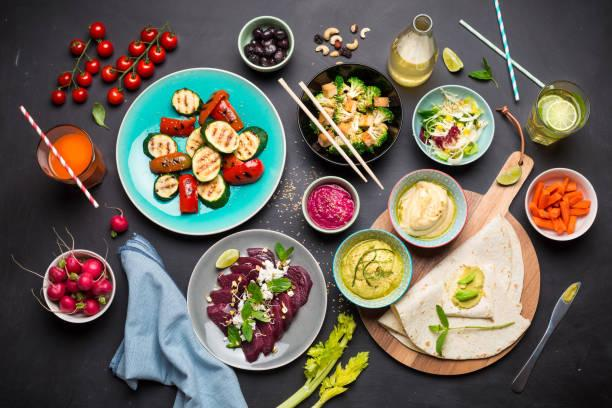Braised Crucian Carp: (114, 66, 282, 235), (186, 229, 324, 372), (297, 63, 400, 167), (412, 84, 495, 167)
